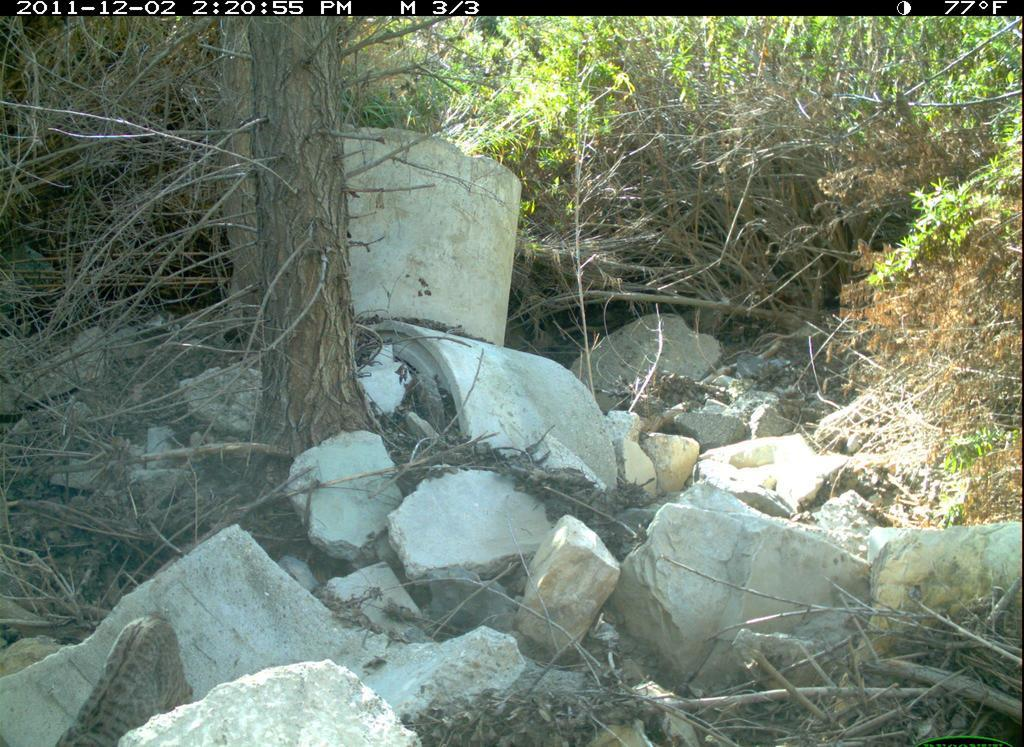bobcat: (47, 606, 205, 747)
